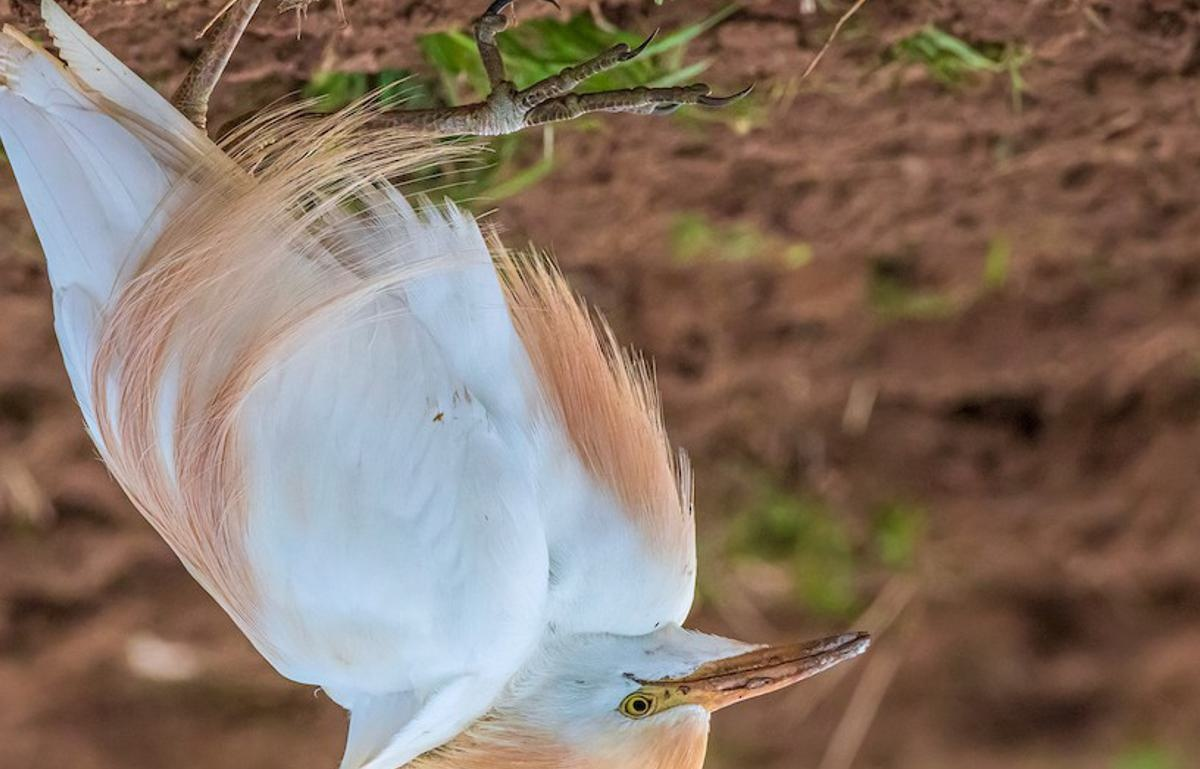egret: (42, 64, 884, 759)
